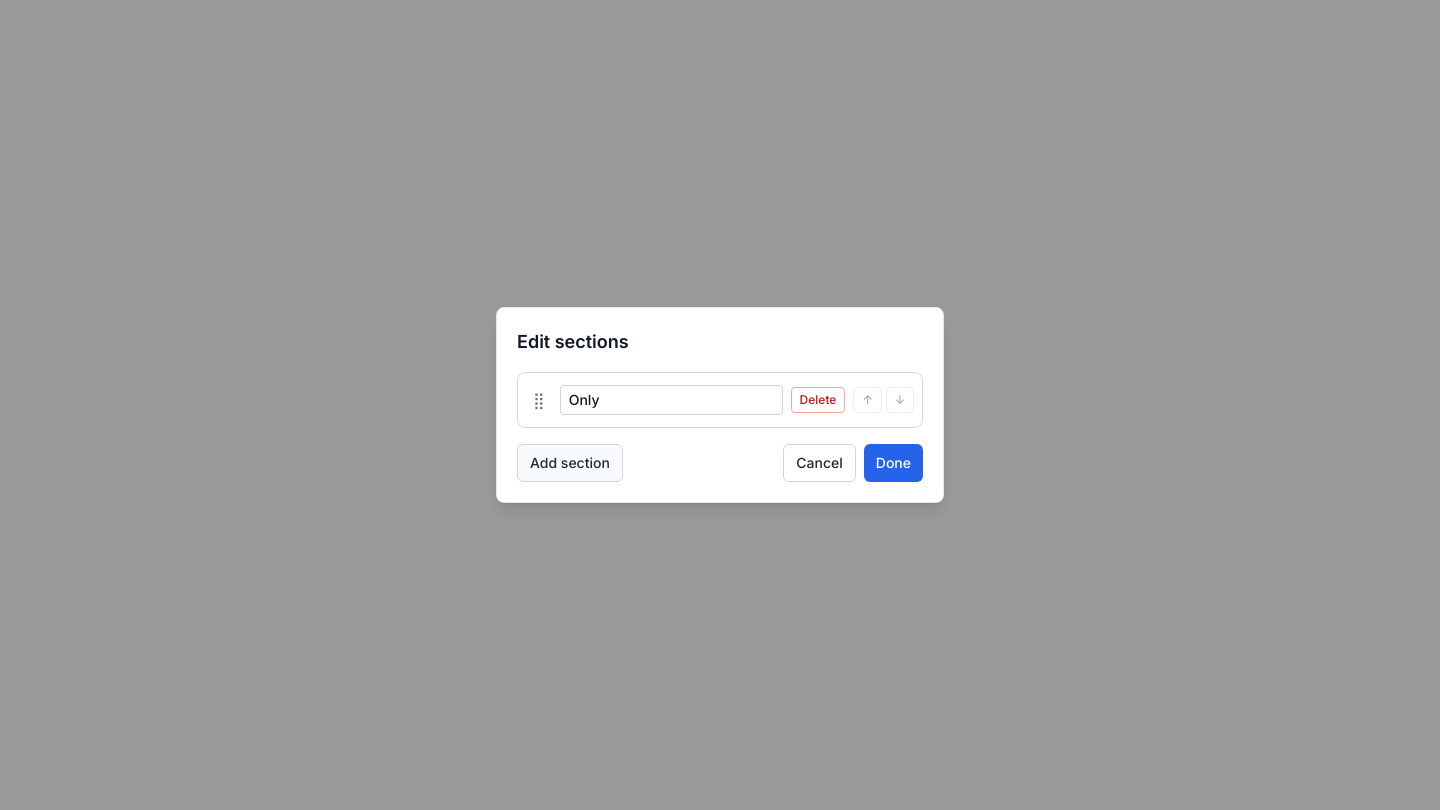
Test case: EditSectionsModal › appends a row when Add section is pressed
Click the button "Add section". click: (570, 463)
box: [517,444,623,482]
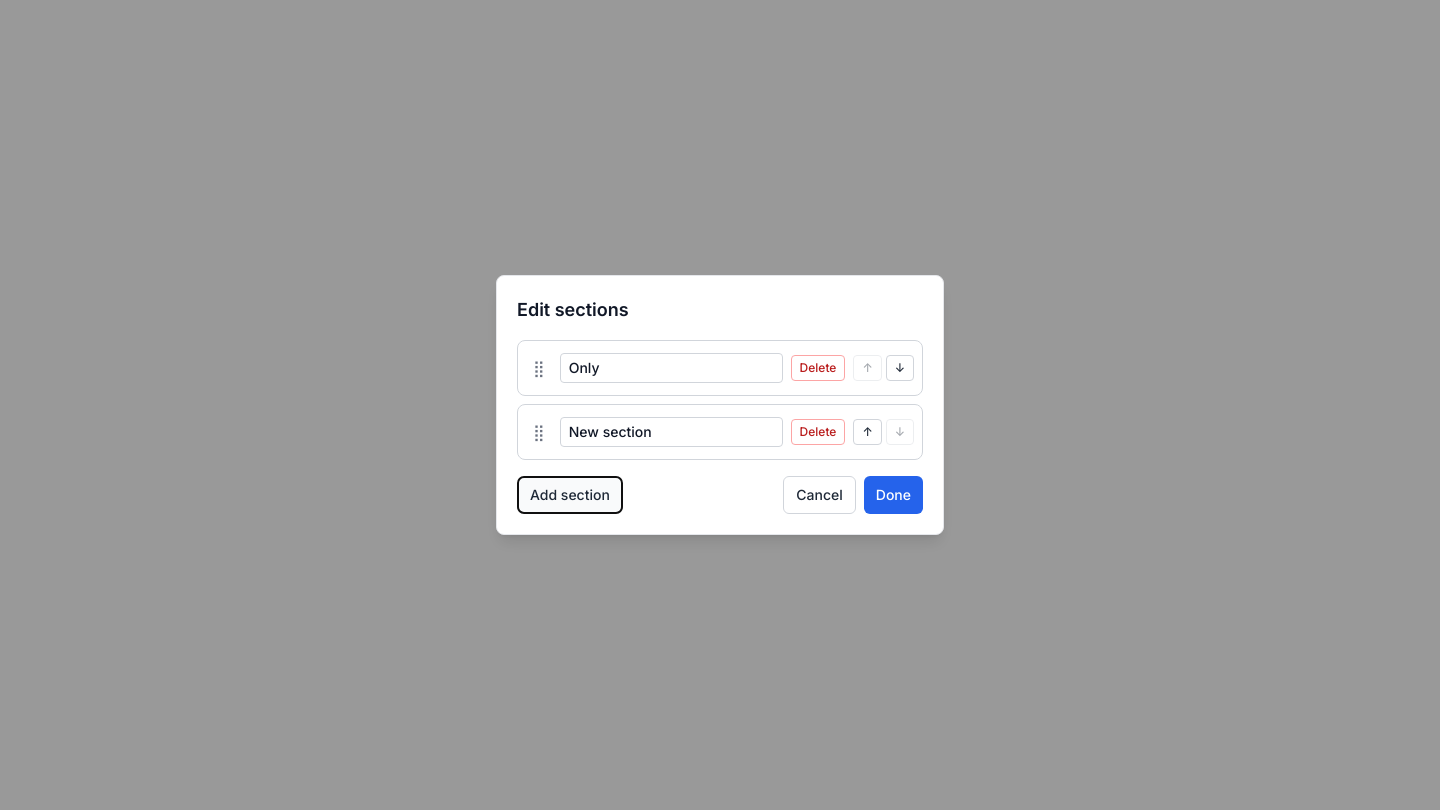
Expected: the number of fields named "Section title" is 2, [560,353,783,383]; [560,417,783,447]
Expected: the 2nd field named "Section title" holds "New section", [560,417,783,447]
